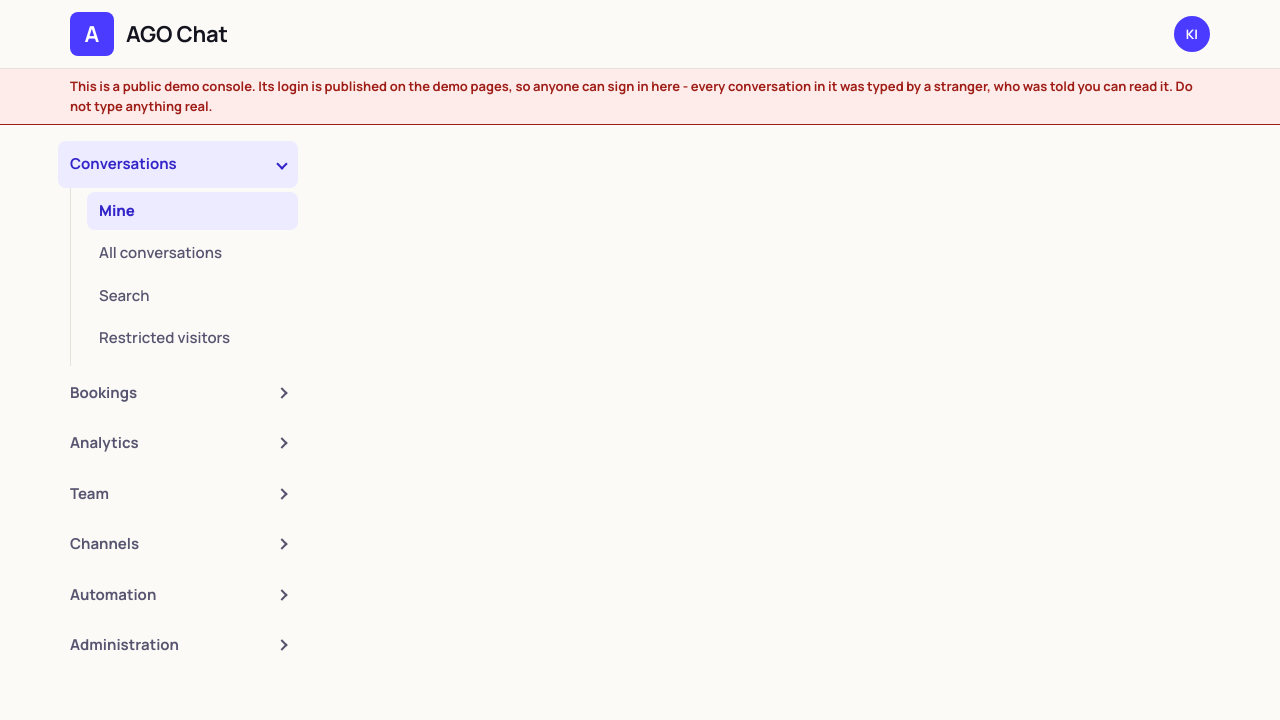
the console shell for an active site with an explicit Locale = En › still renders in English, unchanged
Click the button with class "ago-user-menu__trigger" at (1192, 34), box 1174,16 -> 1210,52
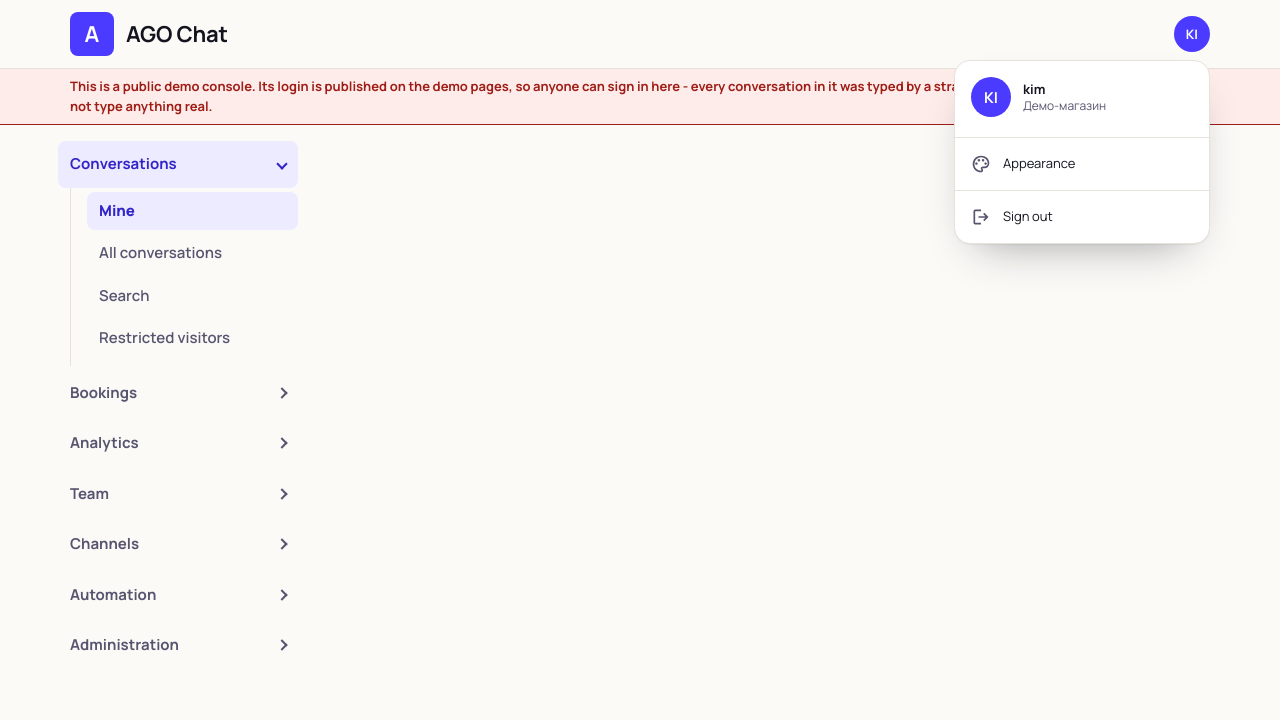
Expected: the text with class "ago-demo-notice__text" shows "This is a public demo console", 70,77 -> 1193,114
Now the button with class "ago-user-menu__item" showing "Sign out" is shown, box 955,199 -> 1209,235
